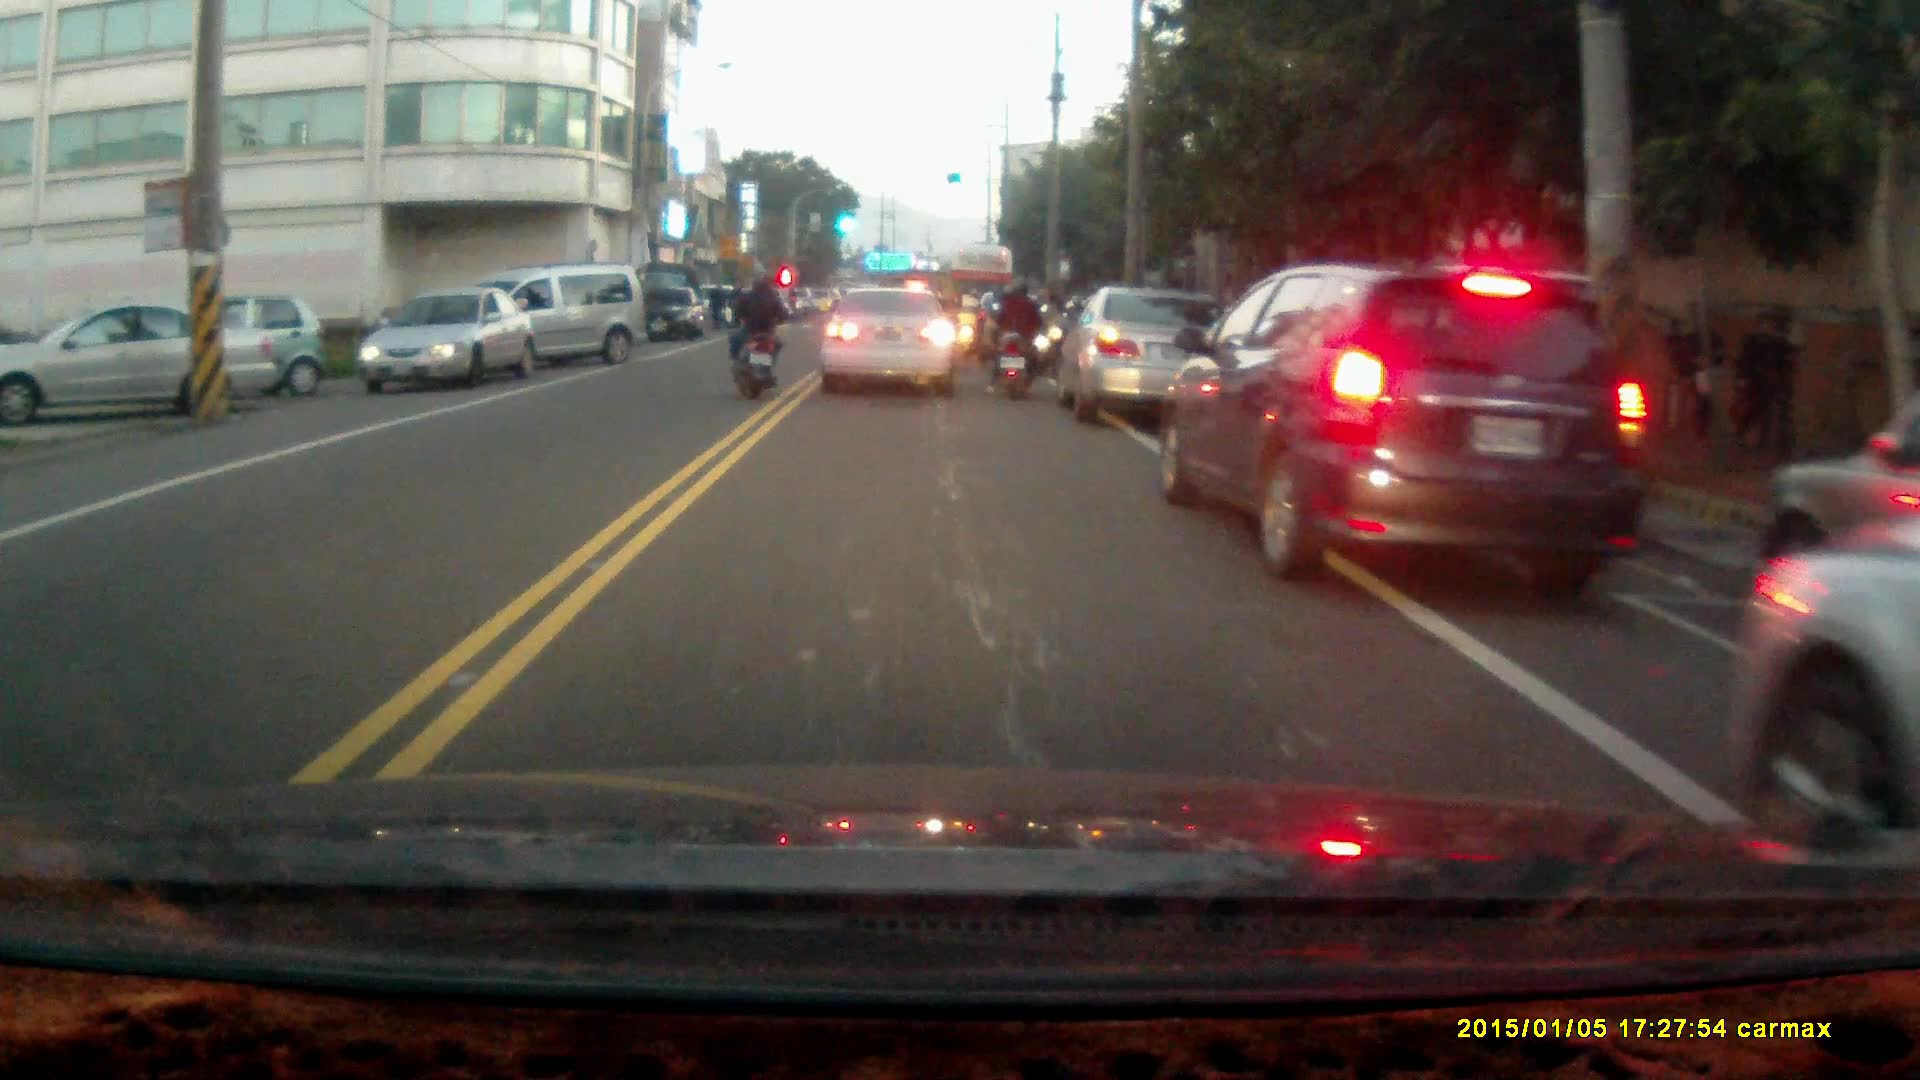pedestrian: (1728, 307, 1783, 463), (1679, 305, 1730, 456)
rider: (986, 271, 1049, 403), (725, 274, 786, 399)
vehicle: (1157, 261, 1656, 585), (1728, 514, 1920, 885), (2, 304, 270, 423), (1051, 284, 1236, 421), (97, 295, 322, 403), (451, 264, 648, 378), (361, 288, 535, 394), (816, 287, 961, 399), (638, 288, 700, 346)
